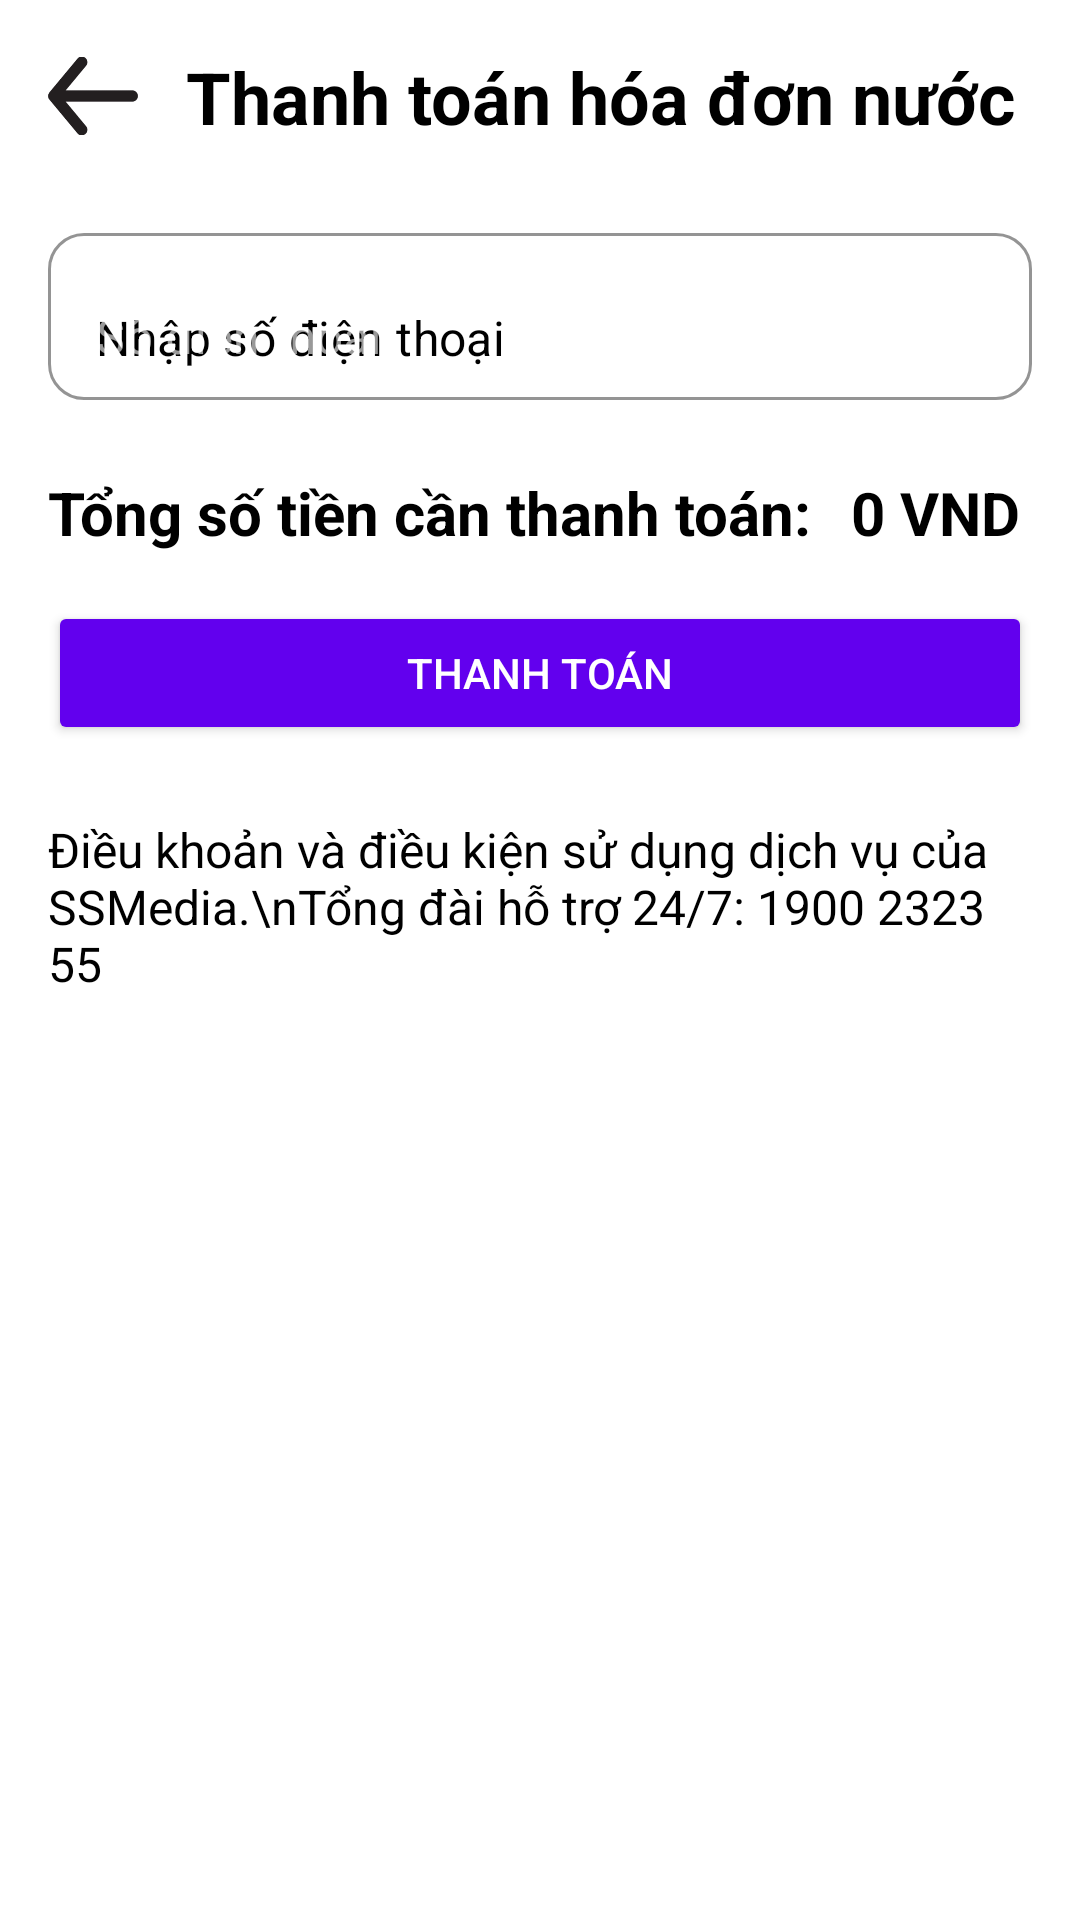

Named icons in this screenshot (1080w x 1920h) and their centers, point (x, y):
arrow back: point (93, 96)
